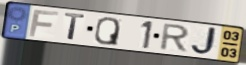1: (140, 20, 156, 50)
F: (27, 9, 61, 38)
J: (190, 26, 221, 57)
Q: (93, 16, 121, 47)
R: (158, 23, 192, 53)
T: (64, 12, 87, 42)
